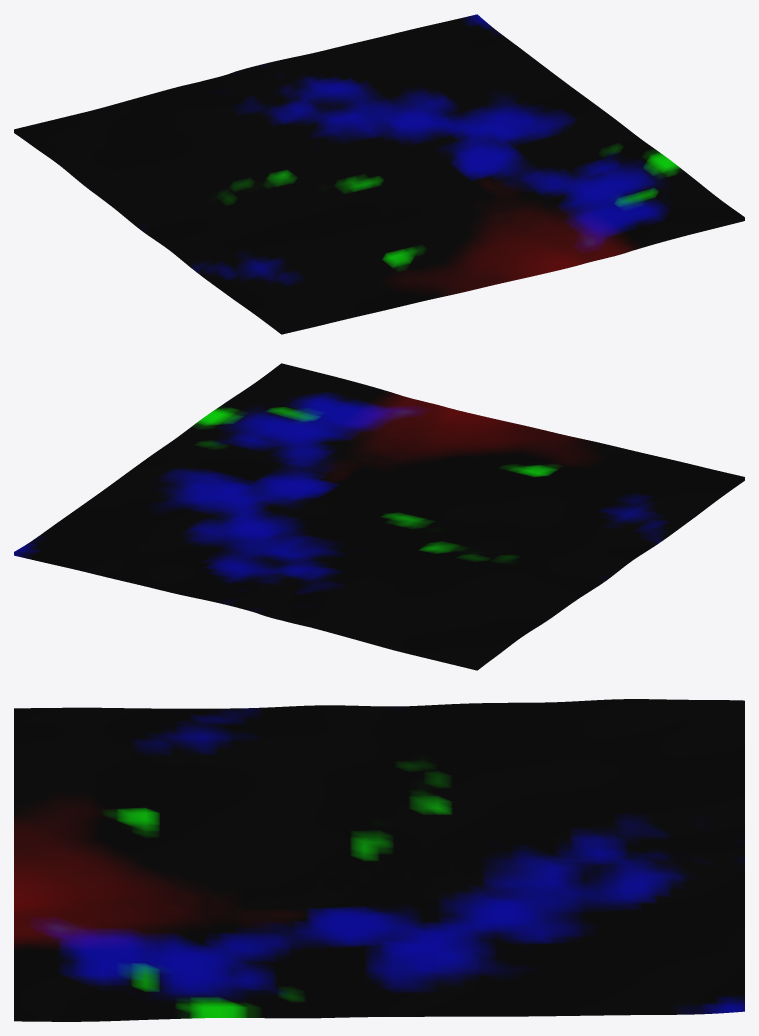
File: coast_12_9.glb
3 renders of one model, top to bottom at view 1: azimuth 30°, elevation 25°; view 2: azimuth 150°, elevation 25°; view 3: azimuth 270°, elevation 25°, orthographic. The views are drawn at different scales.
Visible parts, largest first — view 1: terrain; view 2: terrain; view 3: terrain.
Boxes of the visible parts, <box> form: terrain: <box>14,14,744,334</box>; terrain: <box>14,363,744,670</box>; terrain: <box>14,699,744,1021</box>.
Bounding box in the file's own units: 200 × 7.44 × 200.
